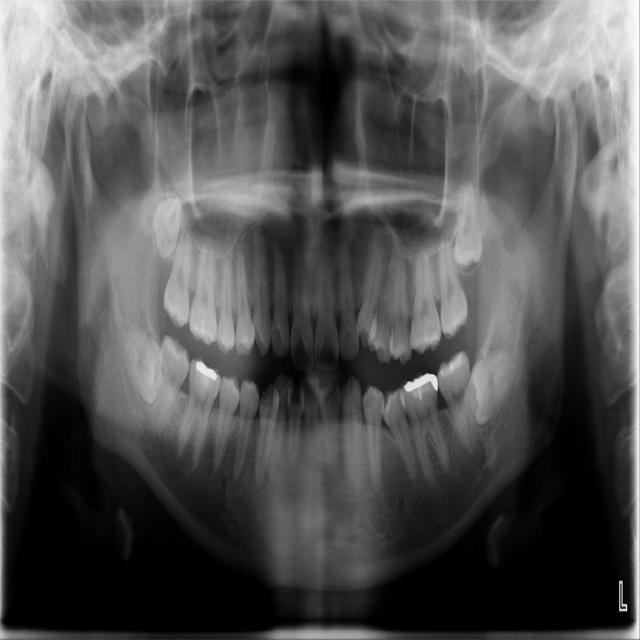3M ESPE Implant: (152, 198, 181, 260)
52: (424, 344, 480, 402), (394, 370, 447, 420), (178, 356, 229, 406)
73: (614, 600, 618, 608)
BioHorizons Implant: (439, 234, 469, 340)
BioLife Implant: (454, 184, 482, 268)
Biomet 3i Implant: (458, 341, 520, 431)
Blue Sky Bio Implant: (434, 348, 478, 455)
Caries: (163, 228, 193, 328)
Implant: (148, 334, 194, 431)
Keystone Dental Implant: (120, 324, 169, 409)
